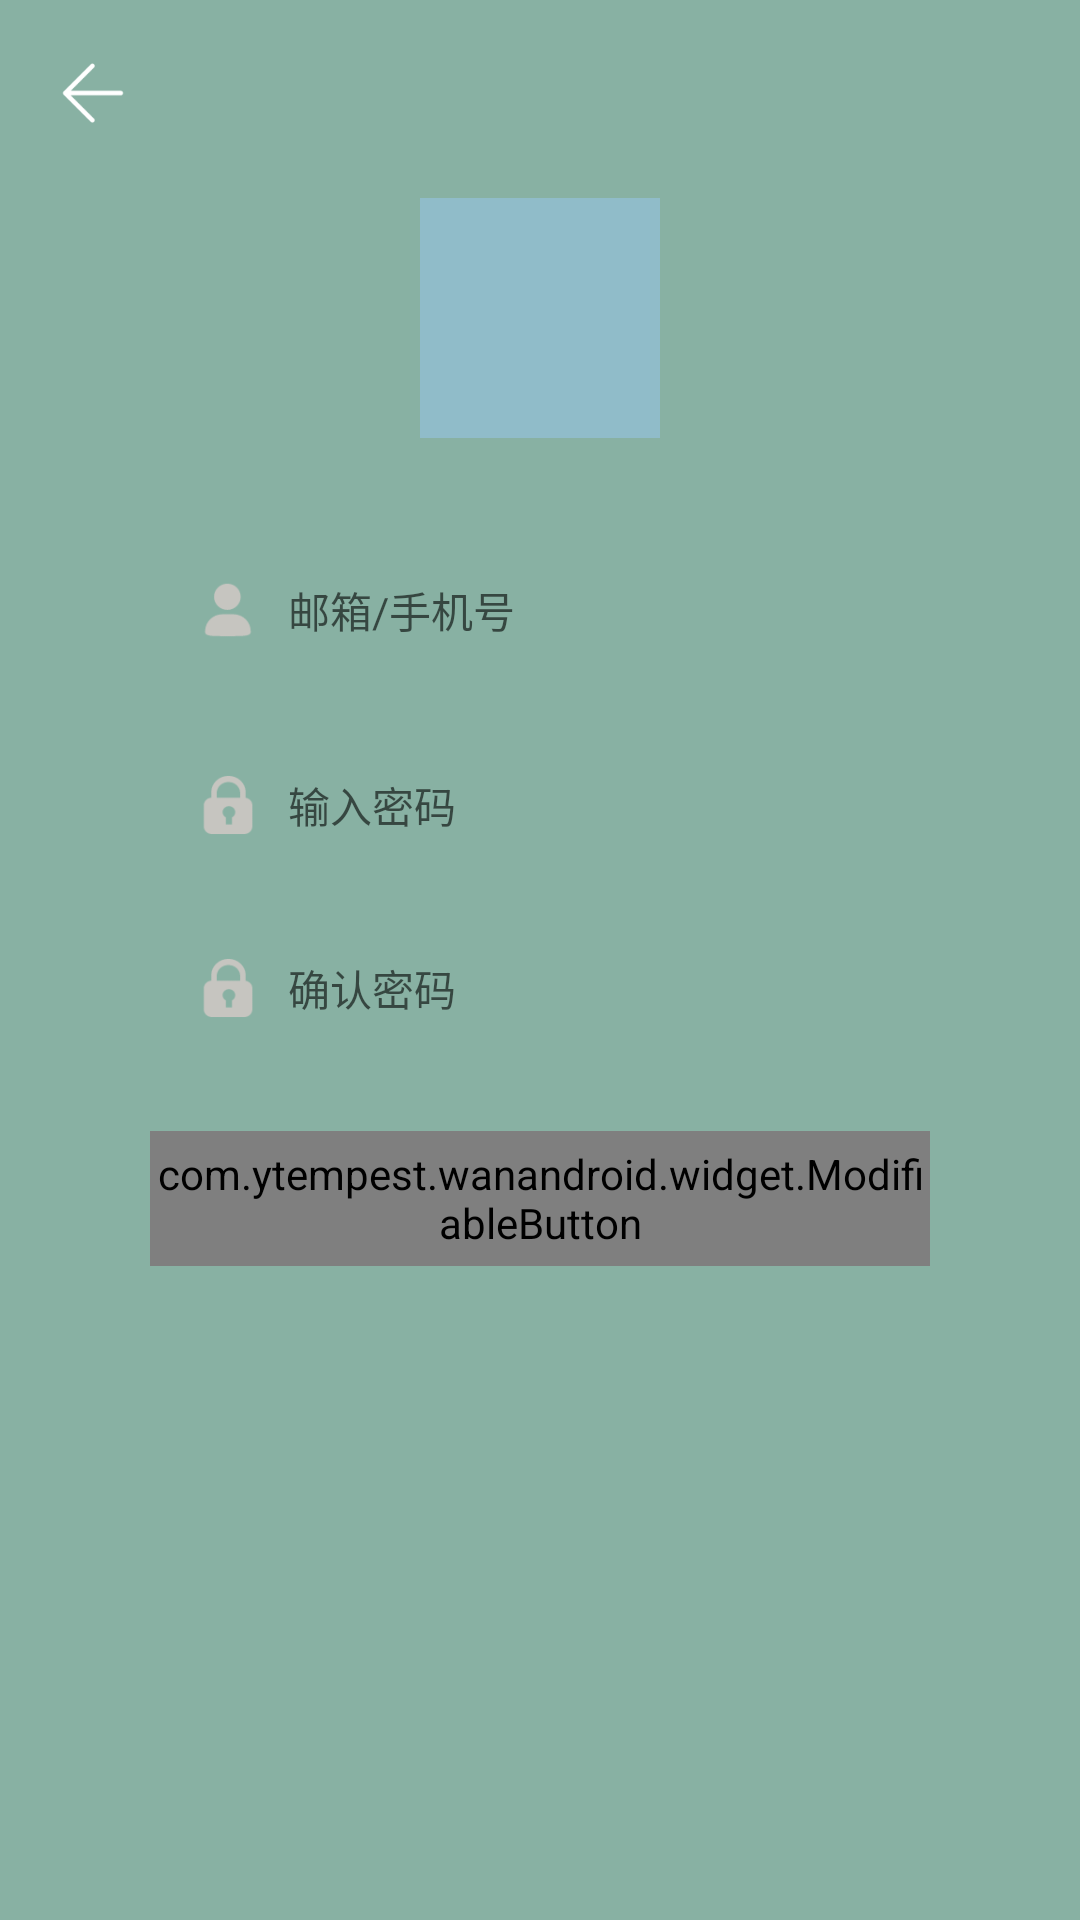

Named icons in this screenshot (1080 × 1920) and their centers, (x=x, y=y):
back: (x=93, y=93)
lock: (x=228, y=805), (x=228, y=988)
user: (x=228, y=610)
